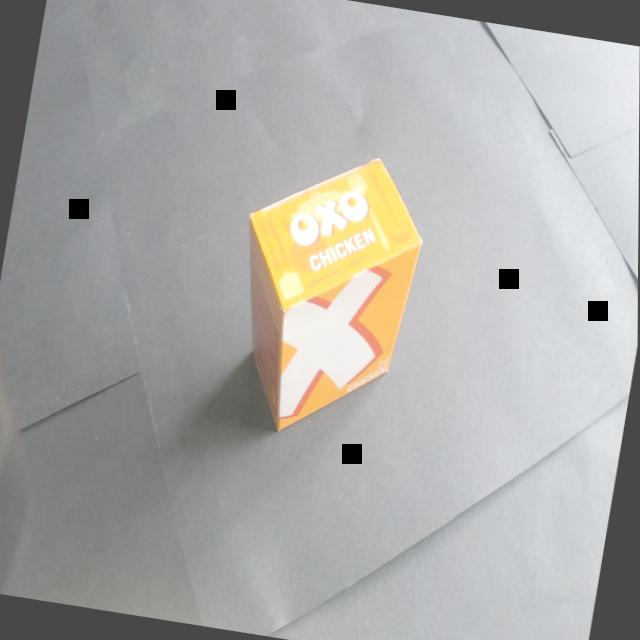Chickenstock: (194, 112, 453, 482)
